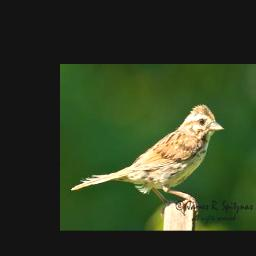Sparrow: (70, 103, 222, 220)
